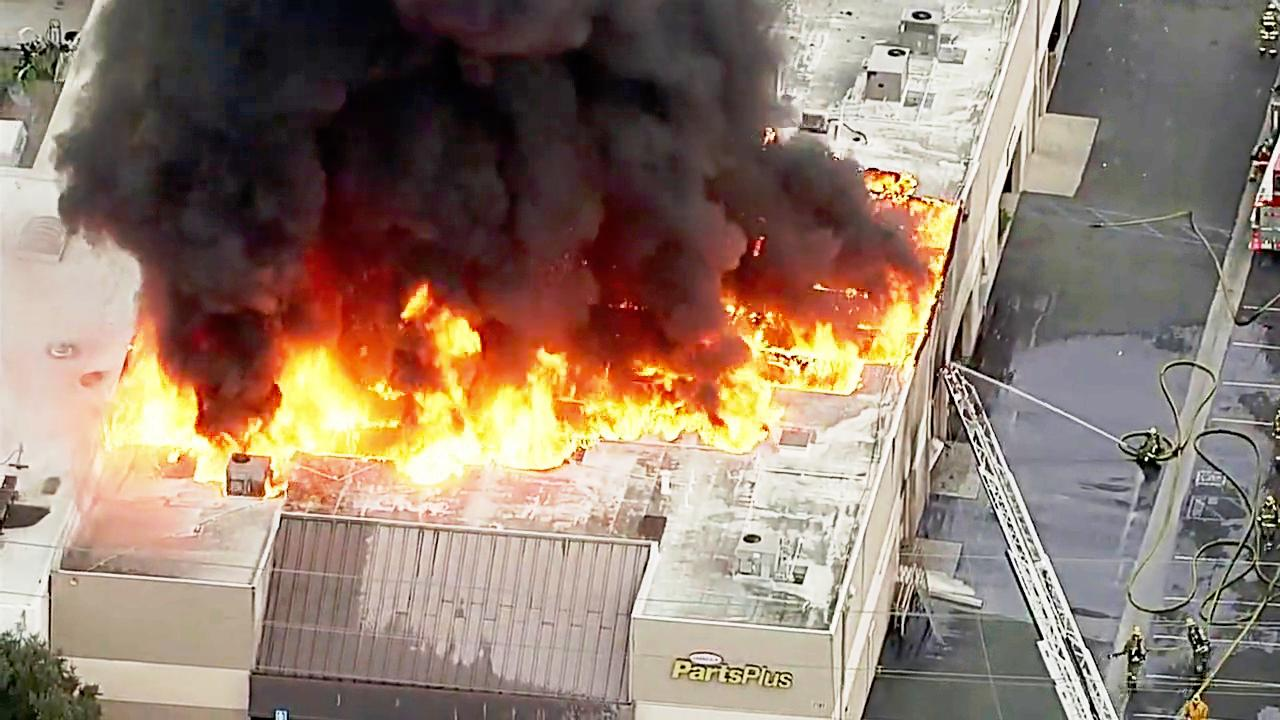fire: (379, 335, 572, 475), (562, 360, 770, 444), (757, 292, 929, 391), (105, 329, 215, 463), (245, 349, 360, 455)
